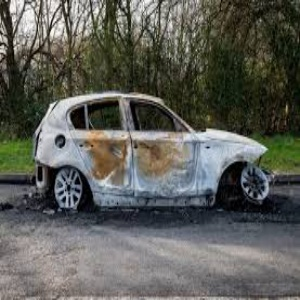door: (91, 138, 196, 191)
